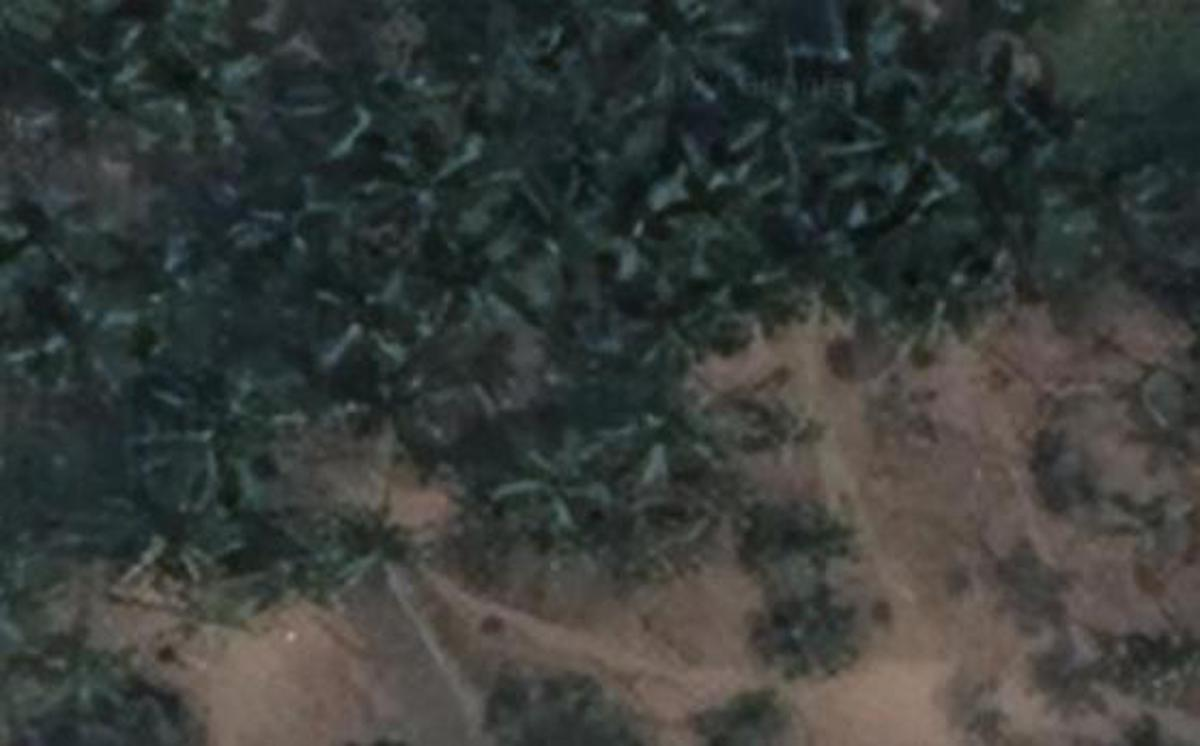coconut: (148, 380, 270, 494), (25, 283, 135, 393), (421, 214, 535, 320), (58, 32, 163, 144), (724, 62, 827, 176), (597, 376, 705, 483), (268, 58, 382, 159), (838, 96, 952, 197), (301, 270, 408, 376), (612, 0, 724, 98), (501, 429, 597, 541), (324, 365, 432, 464), (107, 496, 210, 597), (507, 161, 610, 262), (954, 42, 1049, 144), (382, 141, 488, 230), (630, 281, 722, 380), (240, 165, 335, 260), (169, 62, 264, 156), (0, 180, 92, 277), (320, 500, 410, 586), (384, 47, 466, 135), (43, 621, 131, 703)
